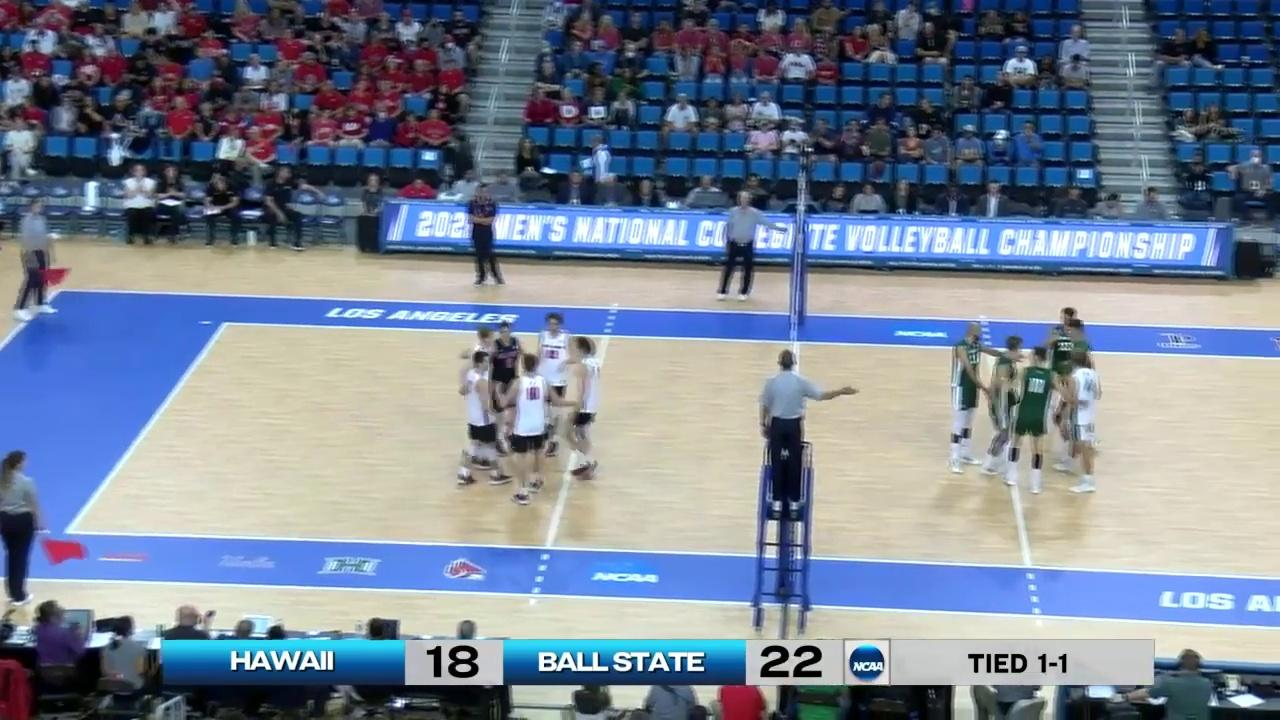player: (949, 323, 999, 480), (528, 312, 580, 459), (456, 352, 506, 486), (508, 356, 553, 503), (984, 335, 1028, 483), (1005, 347, 1049, 494), (561, 337, 606, 480), (1046, 308, 1084, 456), (1064, 353, 1101, 496), (488, 320, 525, 448), (1064, 320, 1094, 472), (469, 330, 501, 468)
refree: (760, 350, 811, 514), (1, 452, 56, 602), (14, 199, 62, 321), (721, 192, 759, 298)
